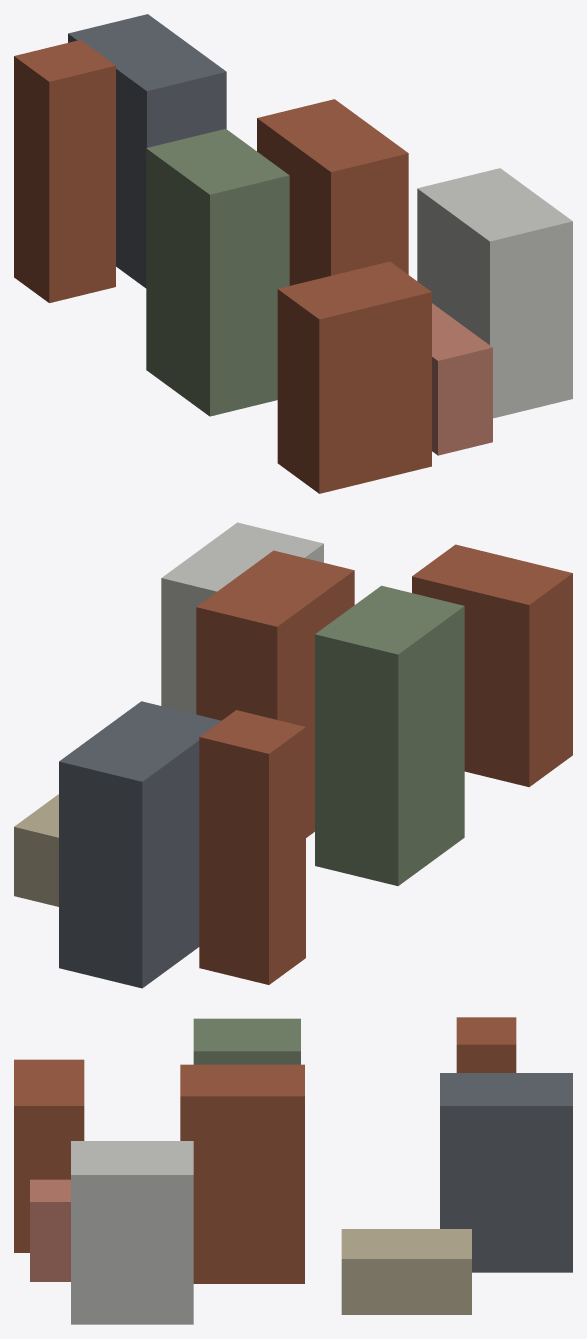
File: synth-01-05.lod2.glb
3 views of the same model, one above another, from view 1: azimuth 30°, elevation 25°; view 2: azimuth 150°, elevation 25°; view 3: azimuth 270°, elevation 25° (orthographic). The views are drawn at different scales.
Parts seen in each view (by area): view 1: synth-01-05; view 2: synth-01-05; view 3: synth-01-05.
Part boxes in pixels (box(x1,y1,x2,y2)): synth-01-05: box(14, 14, 572, 493); synth-01-05: box(14, 522, 572, 988); synth-01-05: box(14, 1017, 572, 1324).
Bounding box in the file's own units: 43.89 × 31.67 × 85.62.
